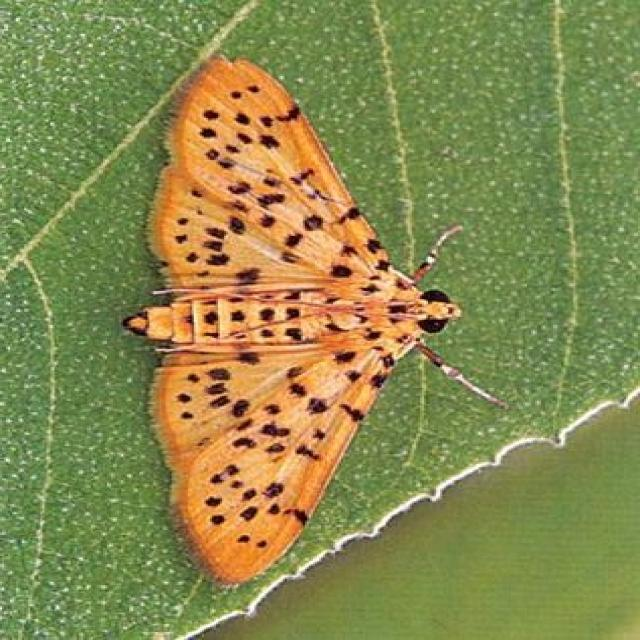peach borer: (141, 52, 468, 590)
